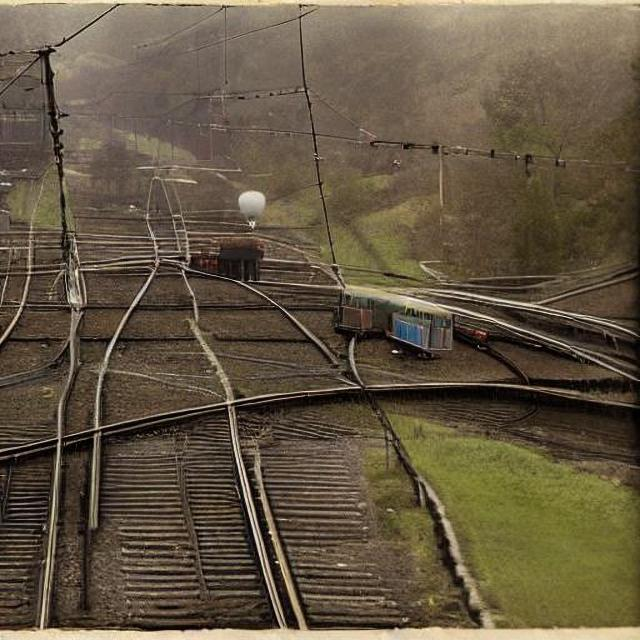balloon: (235, 188, 268, 230)
